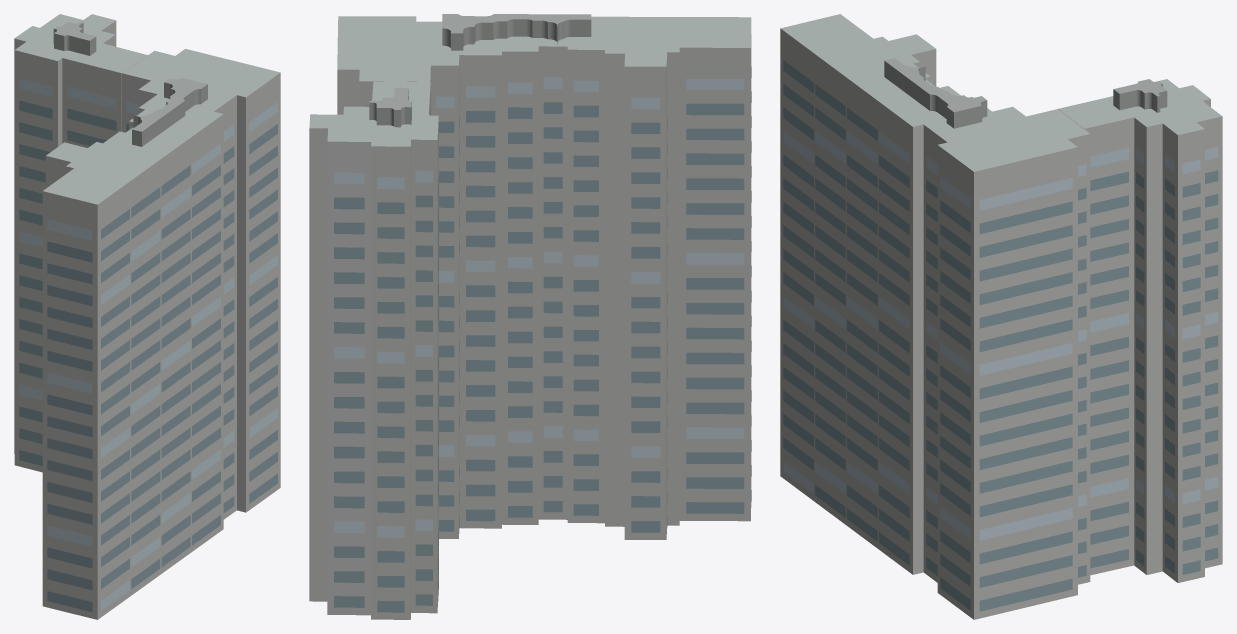
Rendered from fallback-acro-riverpark-107.glb.
3 views of the same model, side by side, from view 1: azimuth 30°, elevation 25°; view 2: azimuth 150°, elevation 25°; view 3: azimuth 270°, elevation 25° (orthographic). The views are drawn at different scales.
Visible parts, largest first — view 1: fallback-acro-riverpark-107; view 2: fallback-acro-riverpark-107; view 3: fallback-acro-riverpark-107.
Part boxes in pixels (x1,y1,x2,y2): fallback-acro-riverpark-107: [14, 14, 280, 619]; fallback-acro-riverpark-107: [309, 14, 751, 619]; fallback-acro-riverpark-107: [780, 14, 1222, 619].
Bounding box in the file's own units: 49.62 × 68 × 58.67.
